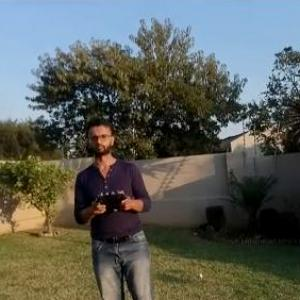follow: (71, 111, 164, 299)
